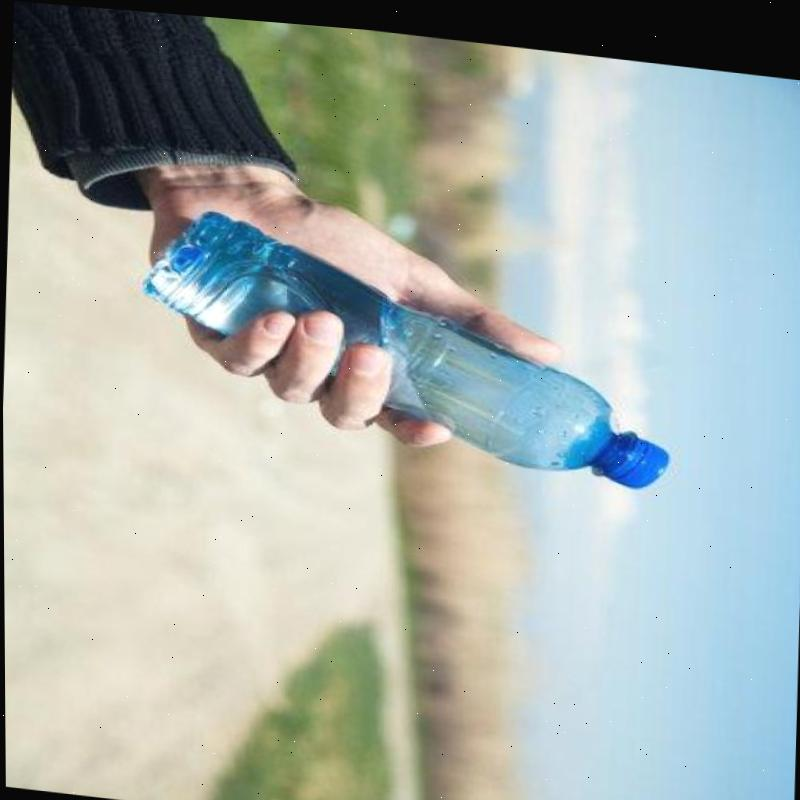botella: (133, 199, 677, 481)
